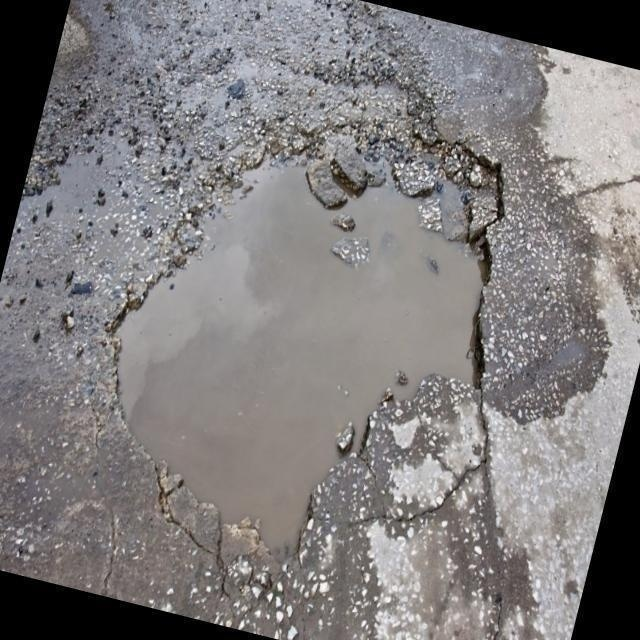pothole: (120, 136, 505, 548)
